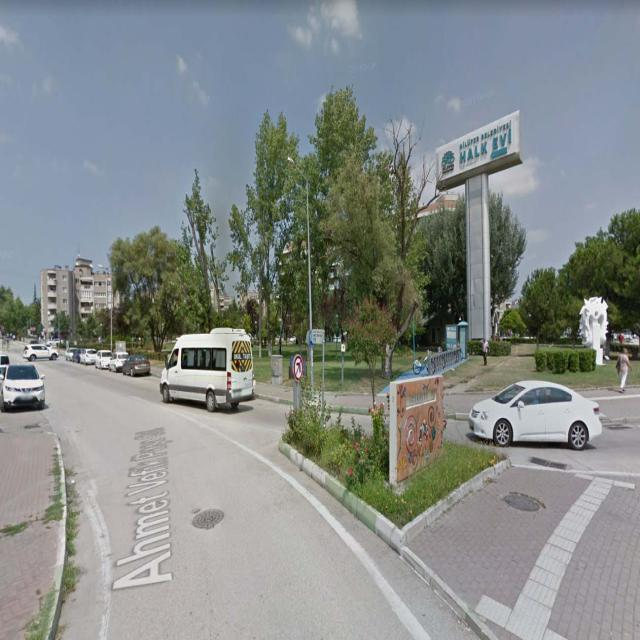soladonulmez: (293, 357, 305, 380)
